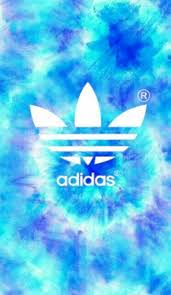adidas: (27, 83, 148, 188)
